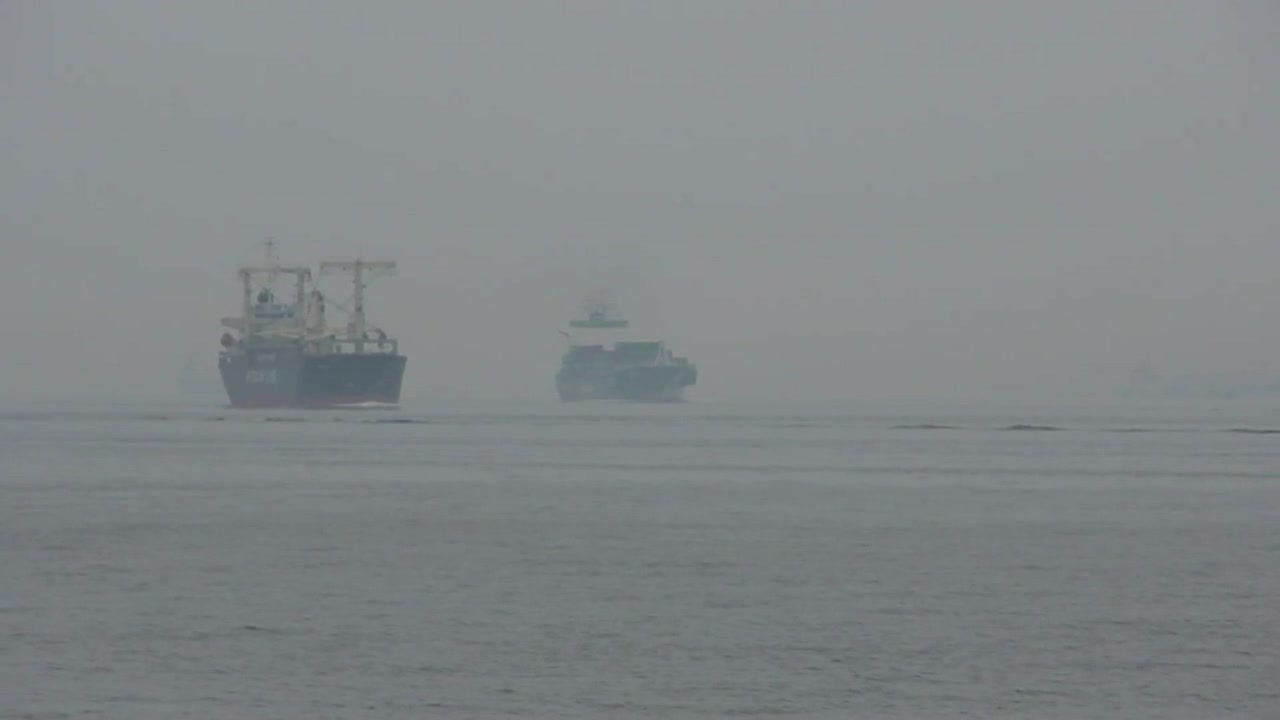boat: (211, 252, 409, 408)
